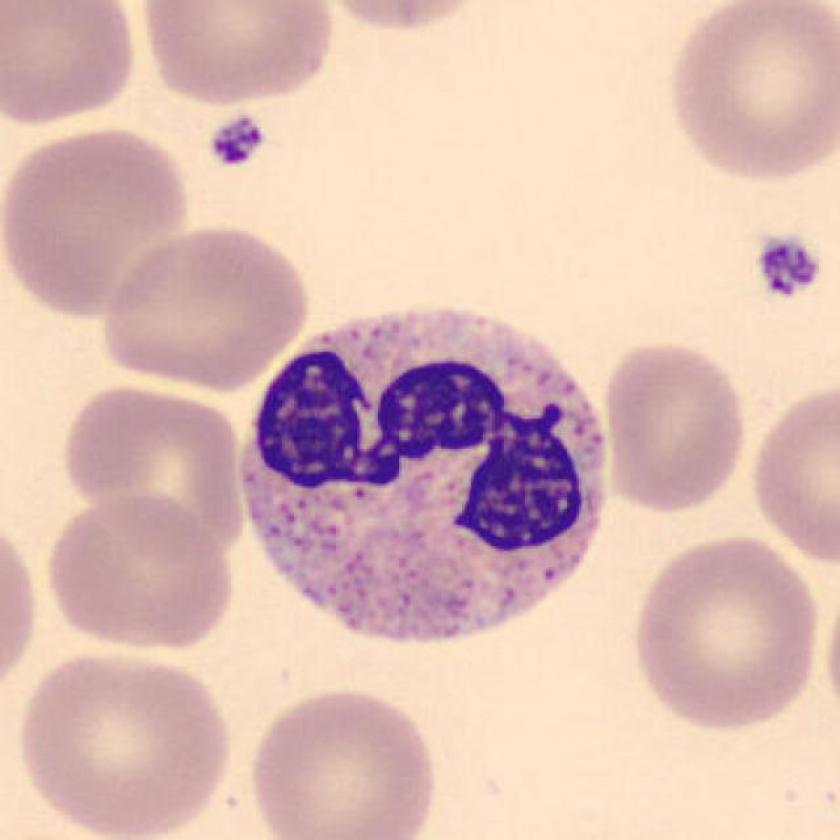neutrophil: (242, 308, 604, 644)
